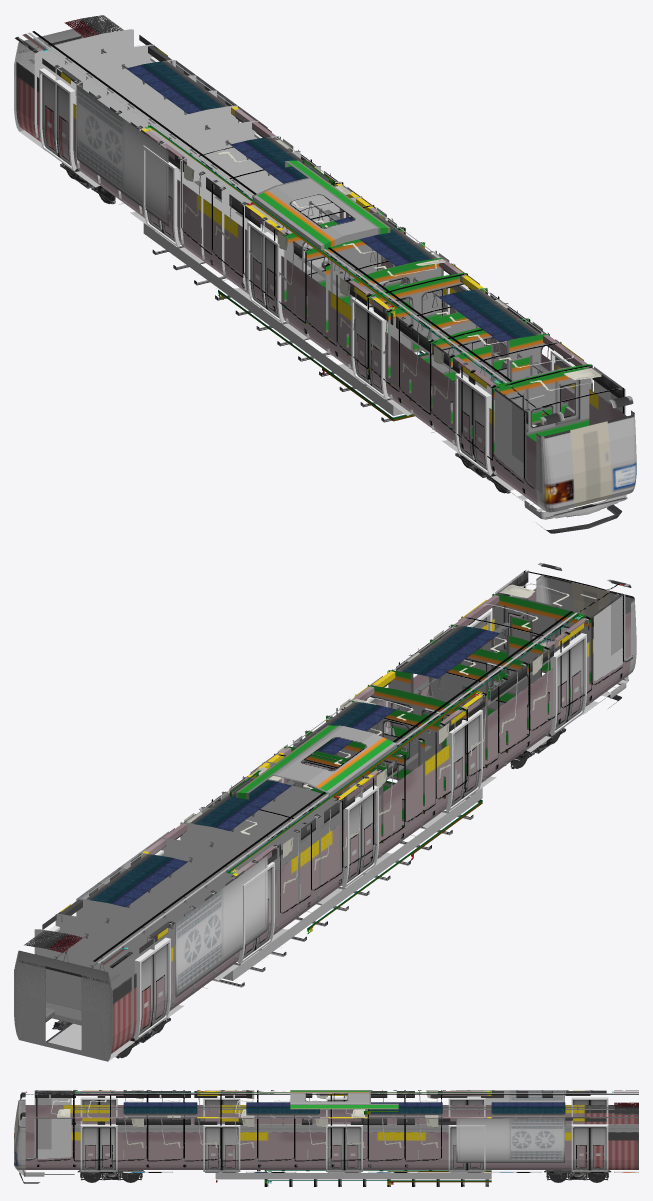
Rendered from m-3_24_i_cab_n.obj.
3 views of the same model, one above another, from view 1: azimuth 30°, elevation 25°; view 2: azimuth 150°, elevation 25°; view 3: azimuth 270°, elevation 25° (orthographic). The views are drawn at different scales.
Visible parts, largest first — view 1: BD4-24m_body_interior_(type_I), BD1-24m_body_exterior_(type_I), BD2-24m_body_interior_(type_I), HP2-type_m-3A-front, MC2-top_machine, BD3-24m_body_interior_(type_I), HP1-type_m-3A-front, MC1-bottom_machine, WD2RB, WD2RF, HP6-type_m-3E-back, HP5-type_m-3E-back (+4 smaller); view 2: BD4-24m_body_interior_(type_I), BD1-24m_body_exterior_(type_I), BD2-24m_body_interior_(type_I), HP6-type_m-3E-back, HP2-type_m-3A-front, MC2-top_machine, HP2-type_m-3E-front, MC1-bottom_machine, BD3-24m_body_interior_(type_I), WD2RF, HP1-type_m-3A-front, HP5-type_m-3E-back (+4 smaller); view 3: BD2-24m_body_interior_(type_I), BD1-24m_body_exterior_(type_I), BD3-24m_body_interior_(type_I), MC1-bottom_machine, HP2-type_m-3A-front, W21LF, HP1-type_m-3A-front, WD2LB, MC2-top_machine, HP6-type_m-3E-back, bogie, BD4-24m_body_interior_(type_I) (+5 smaller).
Boxes of the visible parts, x1,y1,x2,y2 form: BD4-24m_body_interior_(type_I): (34, 29, 591, 474); BD1-24m_body_exterior_(type_I): (39, 45, 575, 481); BD2-24m_body_interior_(type_I): (37, 68, 574, 476); HP2-type_m-3A-front: (494, 365, 636, 512); MC2-top_machine: (252, 160, 394, 250); BD3-24m_body_interior_(type_I): (42, 45, 589, 425); HP1-type_m-3A-front: (492, 365, 627, 533); MC1-bottom_machine: (143, 223, 426, 422); WD2RB: (42, 74, 474, 460); WD2RF: (56, 85, 491, 476); HP6-type_m-3E-back: (14, 33, 104, 141); HP5-type_m-3E-back: (14, 15, 123, 146); BD4-24m_body_interior_(type_I): (34, 594, 591, 1037); BD1-24m_body_exterior_(type_I): (48, 610, 591, 1046); BD2-24m_body_interior_(type_I): (66, 604, 589, 1041); HP6-type_m-3E-back: (14, 950, 131, 1061); HP2-type_m-3A-front: (496, 562, 636, 706); MC2-top_machine: (229, 725, 397, 799); HP2-type_m-3E-front: (14, 950, 112, 1039); MC1-bottom_machine: (212, 788, 482, 987); BD3-24m_body_interior_(type_I): (51, 595, 587, 973); WD2RF: (151, 639, 583, 1026); HP1-type_m-3A-front: (493, 570, 632, 714); HP5-type_m-3E-back: (14, 930, 132, 1061); BD2-24m_body_interior_(type_I): (74, 1091, 614, 1169); BD1-24m_body_exterior_(type_I): (74, 1090, 614, 1172); BD3-24m_body_interior_(type_I): (74, 1091, 614, 1131); MC1-bottom_machine: (215, 1170, 491, 1186); HP2-type_m-3A-front: (14, 1091, 74, 1169); W21LF: (82, 1127, 589, 1172); HP1-type_m-3A-front: (17, 1090, 74, 1183); WD2LB: (99, 1127, 606, 1172); MC2-top_machine: (290, 1090, 398, 1114); HP6-type_m-3E-back: (614, 1105, 638, 1169); bogie: (77, 1170, 611, 1182); BD4-24m_body_interior_(type_I): (74, 1106, 614, 1125).
Bounding box in the file's own units: 2.8 × 3.47 × 25.47.
4 materials, 3 textured.
